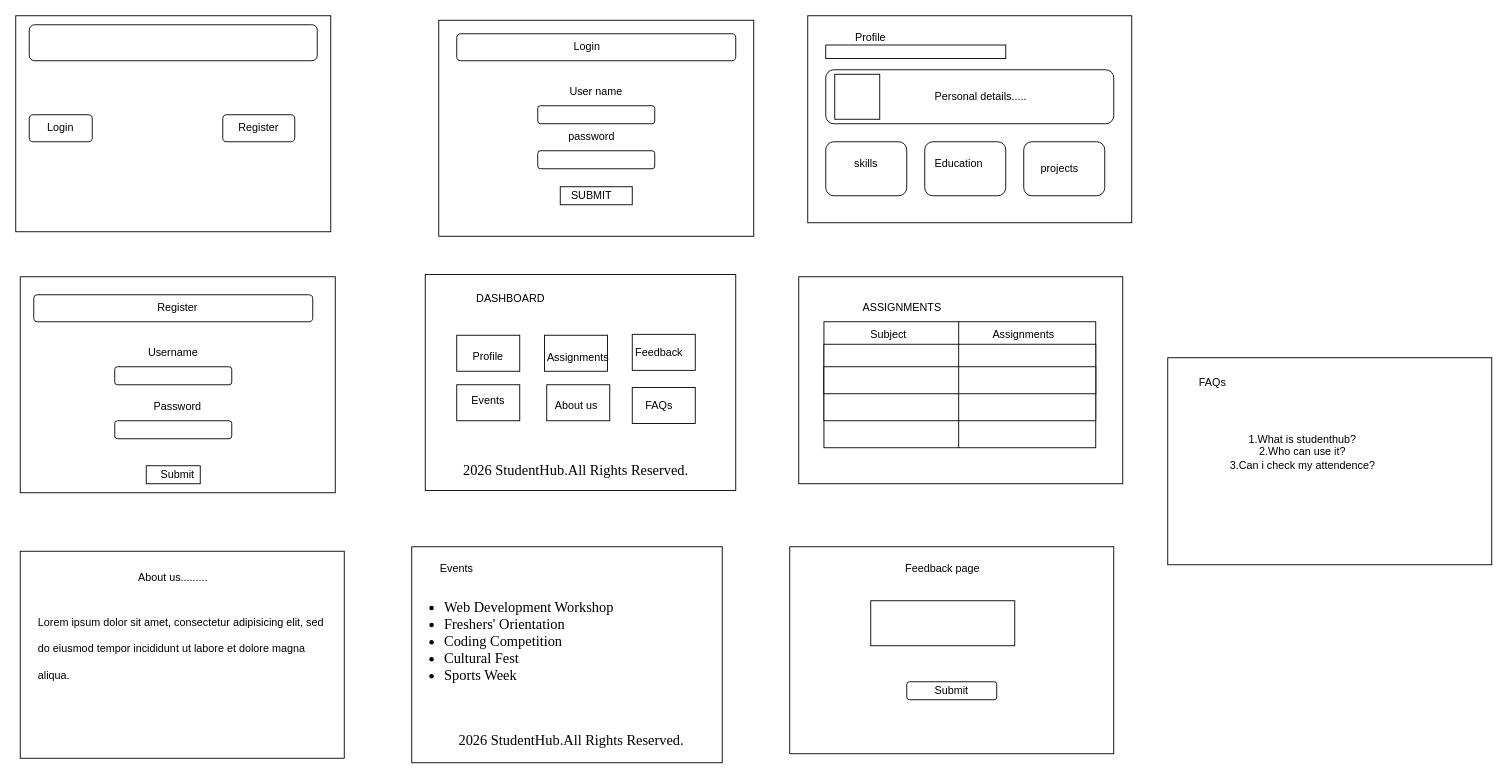
The diagram is 1508 pixels wide and 779 high, and some of its shapes have lost their labels. The shapes that lost their labels are listed below. From the top down, each one's centre as x and y in pixels, then its label:
point 172,42: Welcome to StudentHub
point 915,51: Home About Dashboard
point 857,96: img
